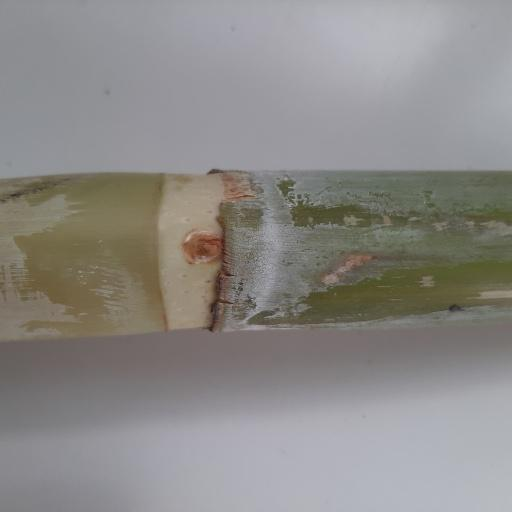Damage_Bud: (182, 232, 222, 263)
